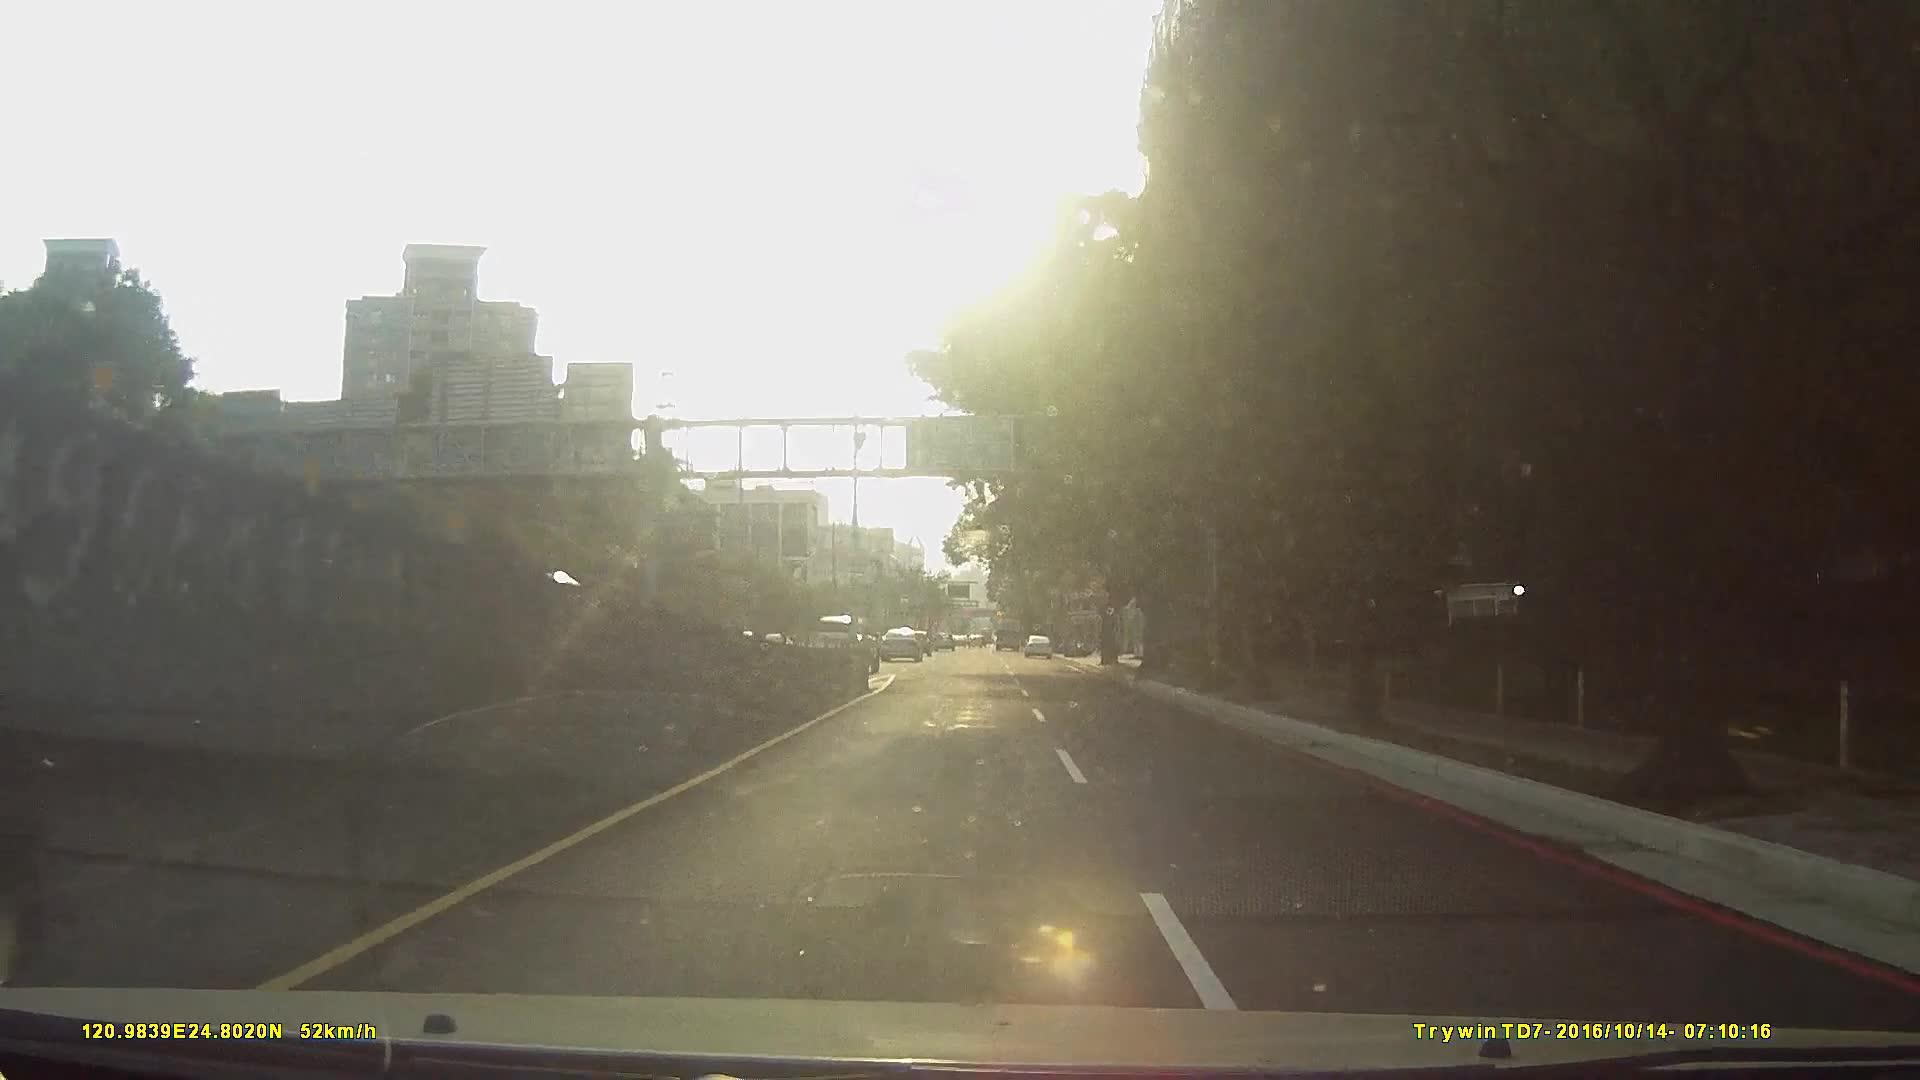vehicle: (877, 625, 920, 661), (993, 613, 1025, 647), (1022, 634, 1054, 659)
